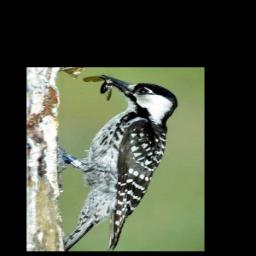Woodpecker: (56, 73, 177, 251)
